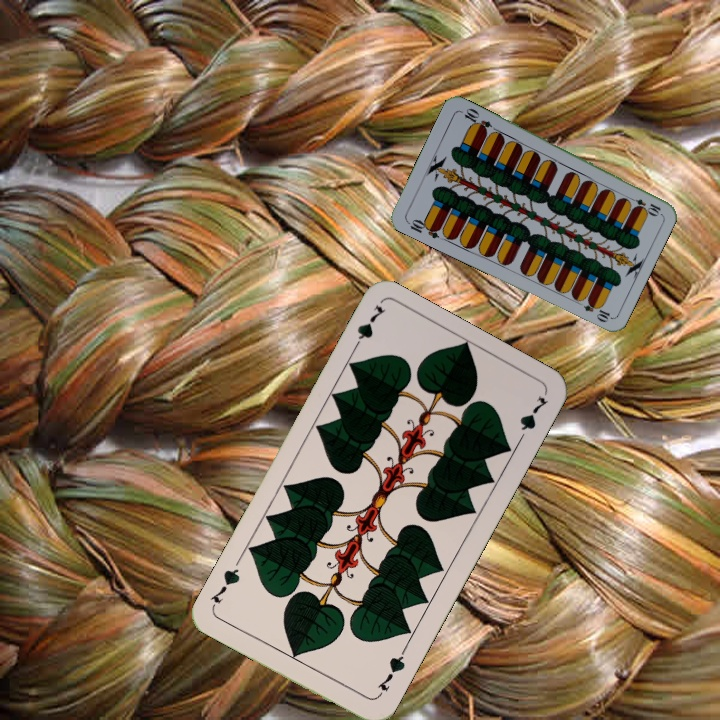E10: (403, 215, 443, 241), (624, 193, 663, 217)
G7: (348, 300, 389, 355), (373, 645, 408, 700)
